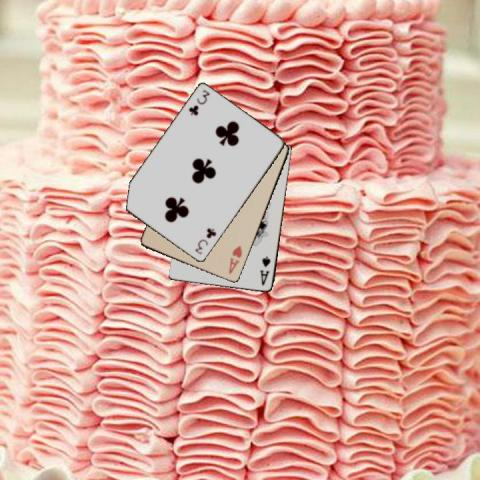3c: (185, 88, 212, 118), (192, 225, 218, 256)
Ah: (226, 243, 243, 275)
As: (257, 254, 272, 288)
